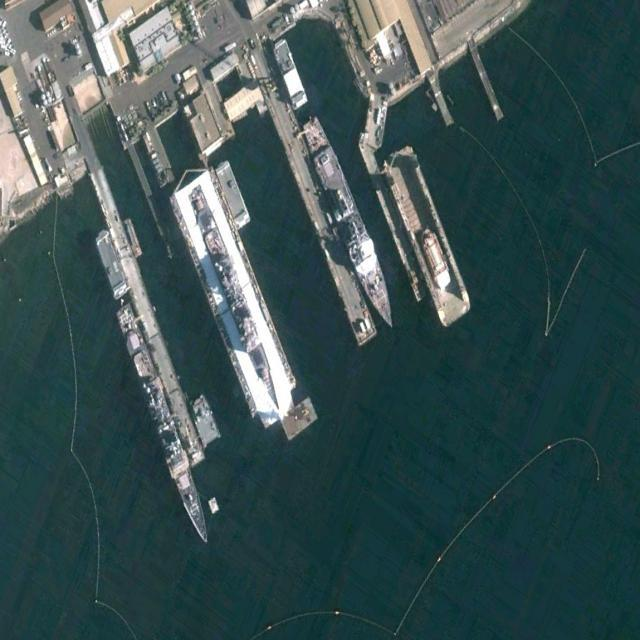Cruiser: (114, 299, 215, 549), (185, 181, 287, 418)
Destroyer: (296, 110, 403, 335)
Other Ship: (418, 225, 454, 293)
